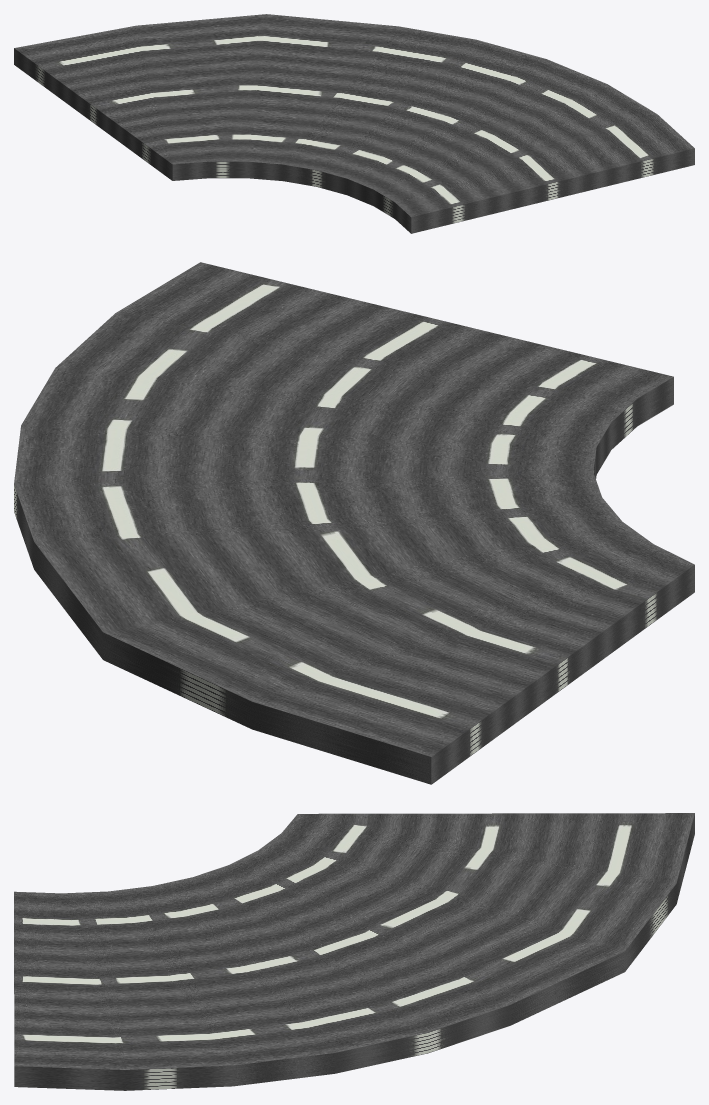
File: Road3Model.FBX
3 renders of one model, top to bottom at view 1: azimuth 30°, elevation 25°; view 2: azimuth 150°, elevation 25°; view 3: azimuth 270°, elevation 25°, orthographic. The views are drawn at different scales.
Parts seen in each view (by area): view 1: Box001; view 2: Box001; view 3: Box001.
Boxes of the visible parts, <box> form: Box001: <box>14,14,694,233</box>; Box001: <box>14,262,694,784</box>; Box001: <box>14,813,694,1090</box>.
Bounding box in the file's own units: 1397 × 58.86 × 1576.
